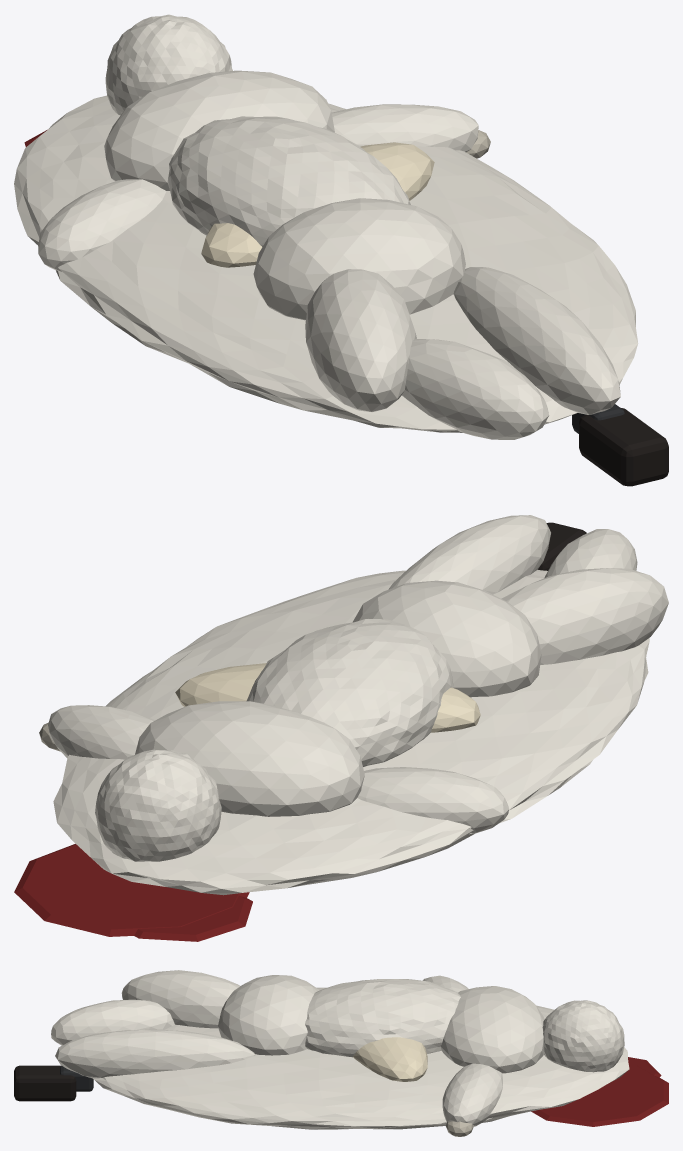
The model's file is body_sheet_b.glb.
3 renders of one model, top to bottom at view 1: azimuth 30°, elevation 25°; view 2: azimuth 150°, elevation 25°; view 3: azimuth 270°, elevation 25°, orthographic. The views are drawn at different scales.
Parts seen in each view (by area): view 1: body_sheet_b; view 2: body_sheet_b; view 3: body_sheet_b.
Boxes of the visible parts, x1,y1,x2,y2 form: body_sheet_b: (14, 14, 668, 486); body_sheet_b: (14, 515, 668, 941); body_sheet_b: (14, 970, 668, 1136).
Size of the model in its own units: 1.18 by 0.3533 by 2.31.
2 materials, 2 textured.
